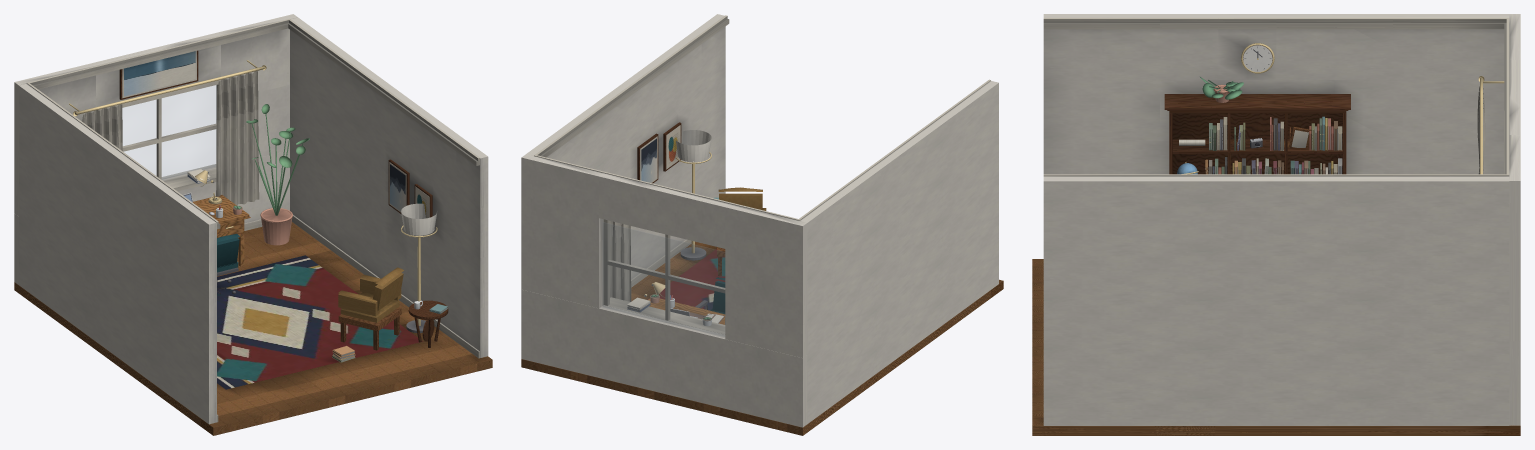
Rendered from study_room_web.opt.glb.
The picture shows the model from 3 angles, left to right: view 1: azimuth 30°, elevation 25°; view 2: azimuth 150°, elevation 25°; view 3: azimuth 270°, elevation 25°; orthographic projection. The views are drawn at different scales.
Parts seen in each view (by area): view 1: Wall_Left, Wall_Right, Floor, Rug, Batch_Static, Window_Glass, Wall_Back_Right, Curtain_R, Armchair, Wall_Back_Lower, CornerPlant, Wall_Back_Left (+9 smaller); view 2: Wall_Left, Wall_Back_Lower, Wall_Right, Wall_Back_Left, Wall_Back_Right, Window_Glass, Wall_Back_Top, Batch_Static, Floor, Rug, Curtain_R, FloorLamp (+3 smaller); view 3: Wall_Right, Wall_Left, Bookcase, Batch_Static, Floor, Wall_Back_Right, Wall_Back_Lower, Wall_Back_Top, WallClock, Bookcase_Plant, Wall_Back_Left.
Boxes of the visible parts, box(x1,y1,x2,y2) form: Wall_Left: box(19, 83, 216, 424); Wall_Right: box(290, 17, 488, 357); Floor: box(14, 222, 492, 435); Rug: box(217, 255, 422, 389); Batch_Static: box(26, 18, 479, 422); Window_Glass: box(122, 85, 216, 178); Wall_Back_Right: box(216, 14, 297, 157); Curtain_R: box(216, 71, 259, 205); Armchair: box(338, 267, 403, 350); Wall_Back_Lower: box(14, 150, 289, 284); CornerPlant: box(246, 104, 309, 245); Wall_Back_Left: box(14, 63, 95, 215); Wall_Left: box(800, 81, 998, 423); Wall_Back_Lower: box(521, 289, 807, 427); Wall_Right: box(526, 14, 725, 279); Wall_Back_Left: box(725, 204, 807, 357); Wall_Back_Right: box(521, 154, 603, 308); Window_Glass: box(603, 222, 724, 336); Wall_Back_Top: box(599, 173, 728, 248); Batch_Static: box(534, 15, 990, 320); Floor: box(521, 241, 1003, 435); Rug: box(647, 249, 725, 310); Curtain_R: box(610, 221, 631, 301); FloorLamp: box(675, 130, 711, 260); Wall_Right: box(1043, 176, 1509, 425); Wall_Left: box(1043, 14, 1509, 174); Bookcase: box(1164, 94, 1350, 174); Batch_Static: box(1043, 18, 1509, 176); Floor: box(1032, 259, 1520, 435); Wall_Back_Right: box(1509, 135, 1520, 341); Wall_Back_Lower: box(1509, 341, 1520, 425); Wall_Back_Top: box(1509, 60, 1520, 134); WallClock: box(1241, 43, 1274, 73); Bookcase_Plant: box(1200, 77, 1243, 102); Wall_Back_Left: box(1509, 14, 1520, 59).
Size of the model in its own units: 4.24 by 3.03 by 5.24.
Materials: 58 (53 with a texture image).
